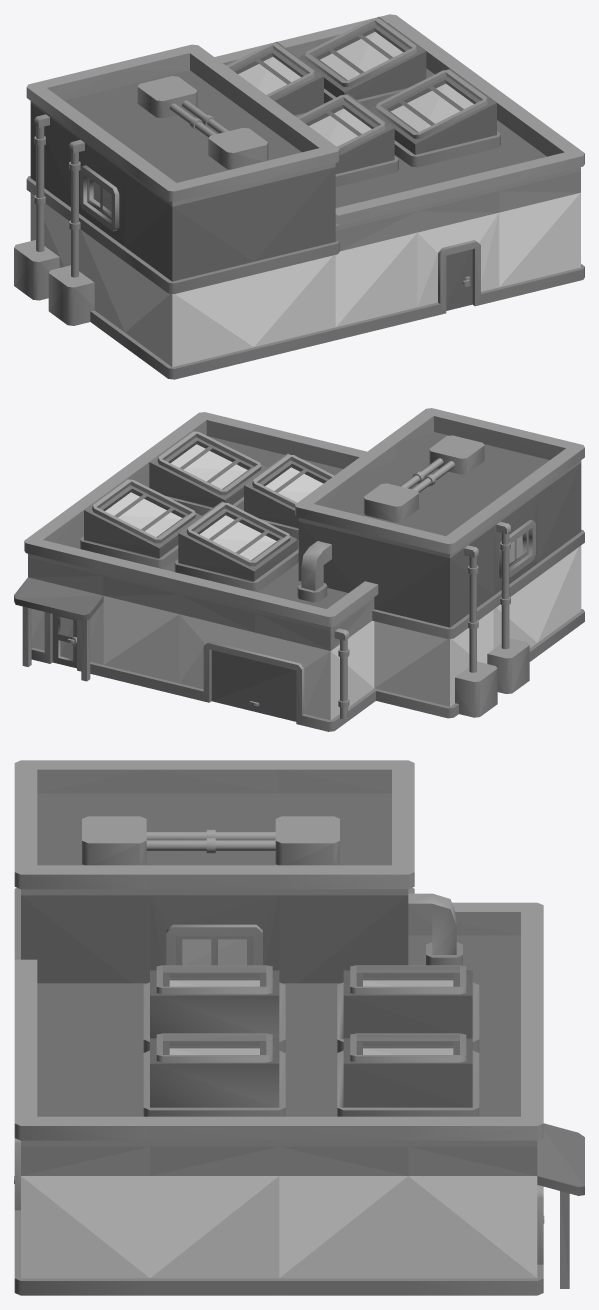
The model's file is nmrf_war_factory.glb.
The picture shows the model from 3 angles, top to bottom: view 1: azimuth 30°, elevation 25°; view 2: azimuth 150°, elevation 25°; view 3: azimuth 270°, elevation 25°; orthographic projection. The views are drawn at different scales.
Visible parts, largest first — view 1: Body; view 2: Body; view 3: Body.
Part boxes in pixels (x1,y1,x2,y2): Body: (14, 14, 584, 379); Body: (14, 408, 584, 731); Body: (14, 760, 584, 1295).
Bounding box in the file's own units: 20 × 8.22 × 16.54.
Materials: 2 (1 with a texture image).
